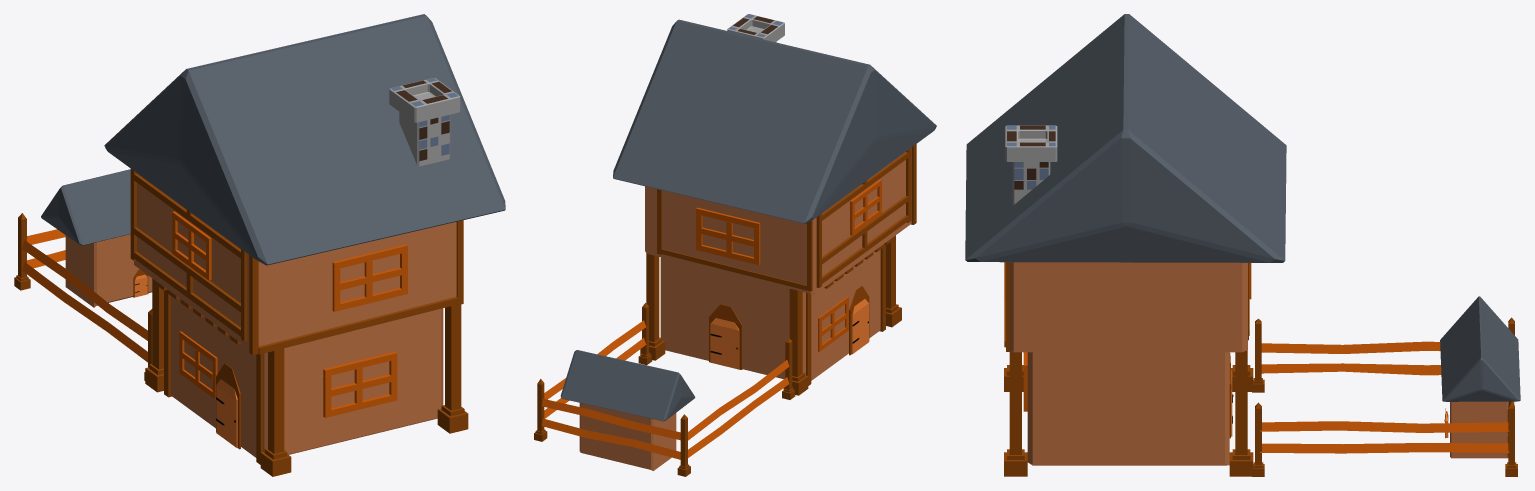
The model's file is MedievalHouse2.fbx.
3 renders of one model, left to right at view 1: azimuth 30°, elevation 25°; view 2: azimuth 150°, elevation 25°; view 3: azimuth 270°, elevation 25°, orthographic. The views are drawn at different scales.
Parts seen in each view (by area): view 1: Cylinder.004; view 2: Cylinder.004; view 3: Cylinder.004.
Part boxes in pixels (box(x1,y1,x2,y2)): Cylinder.004: box(14, 14, 505, 476); Cylinder.004: box(534, 14, 936, 476); Cylinder.004: box(965, 14, 1520, 476).
Bounding box in the file's own units: 2396 × 3386 × 4622.
